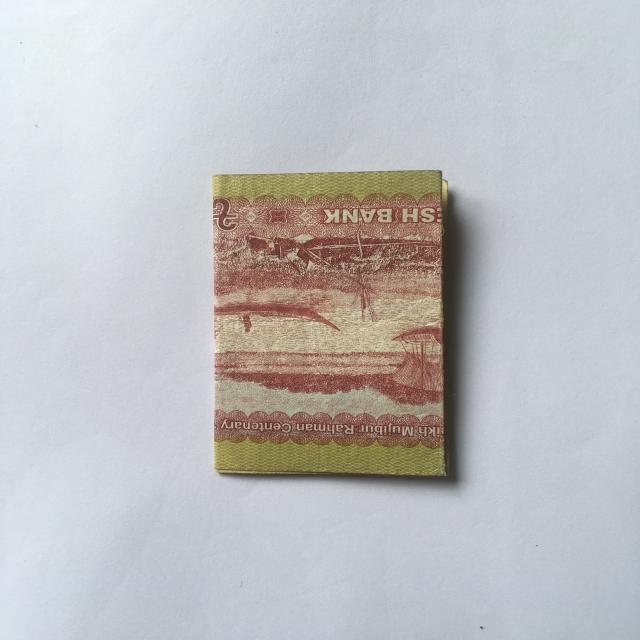Taka: (210, 162, 467, 482)
